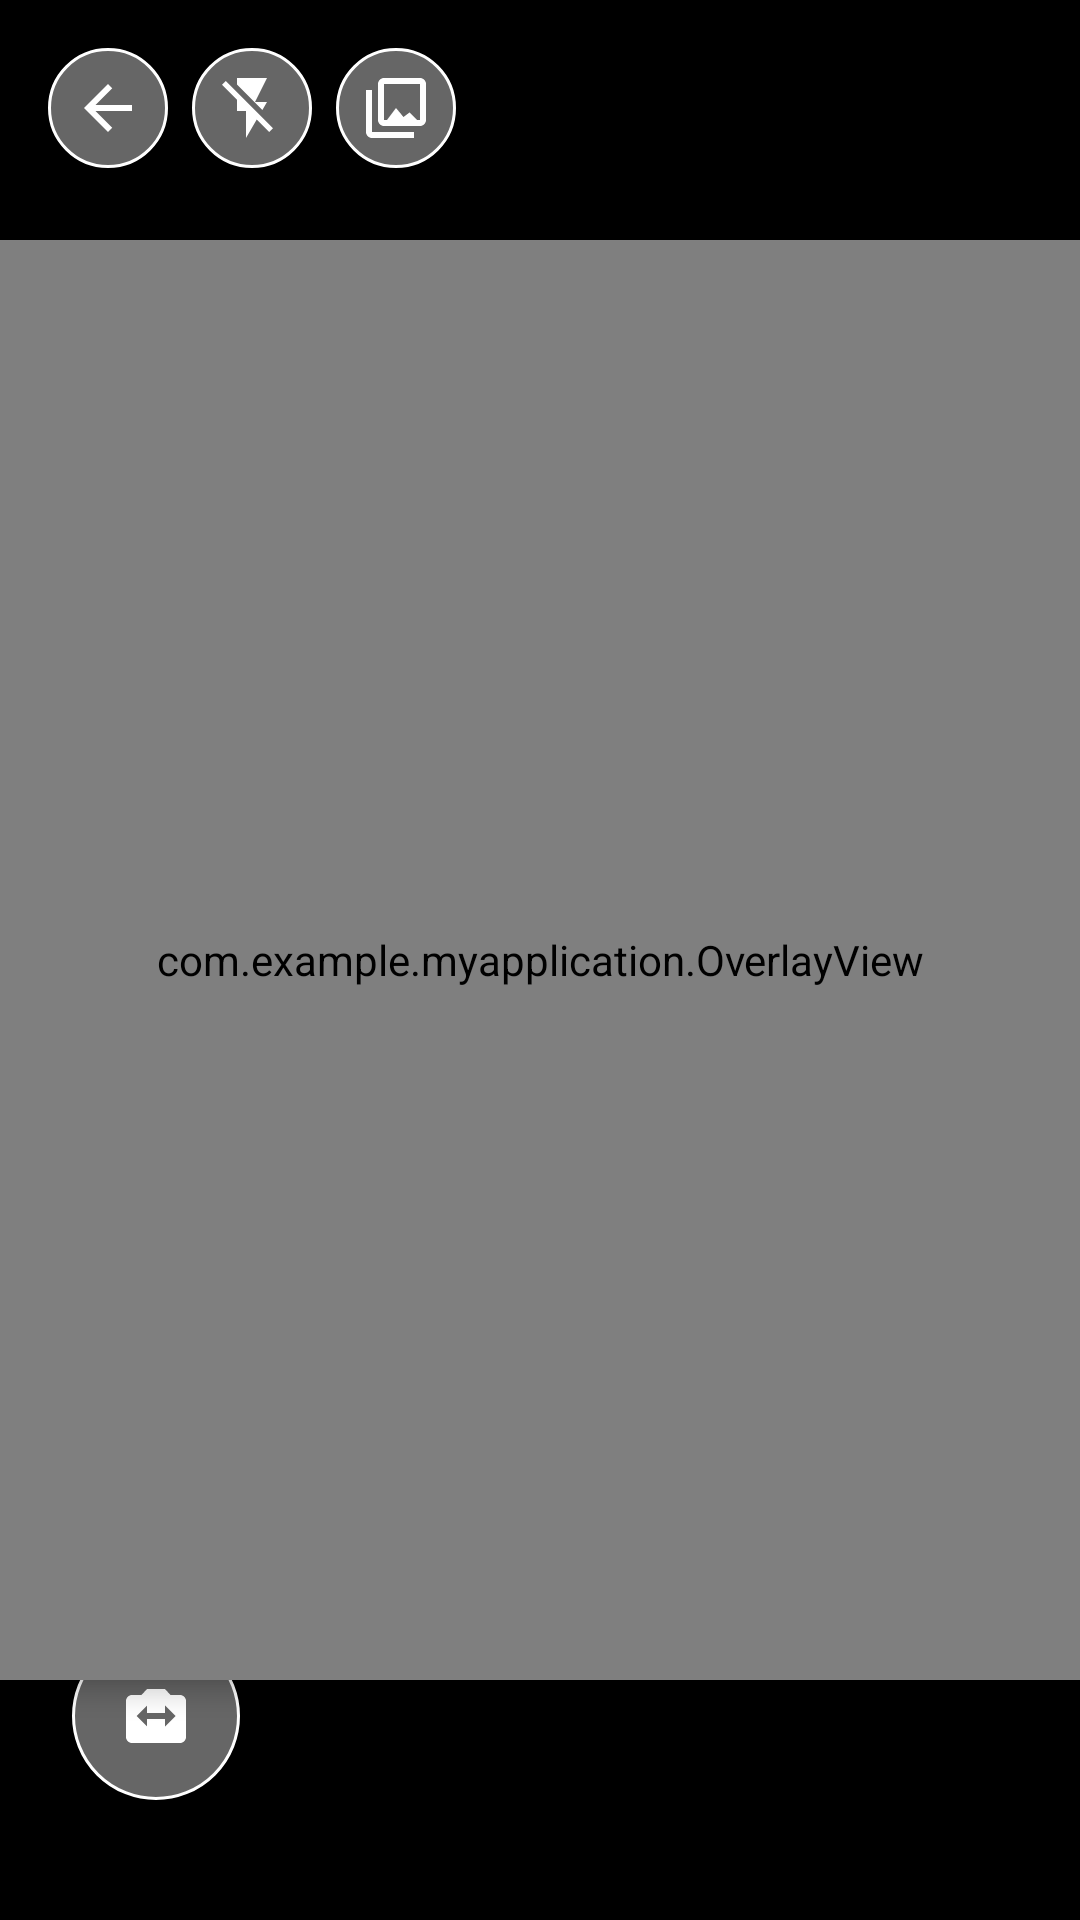

Icons on this 1080×1920 Android screen, each with the point to tap as (x,y):
Flash: (252,108)
Switch Camera: (156,1716)
Volver: (108,108)
